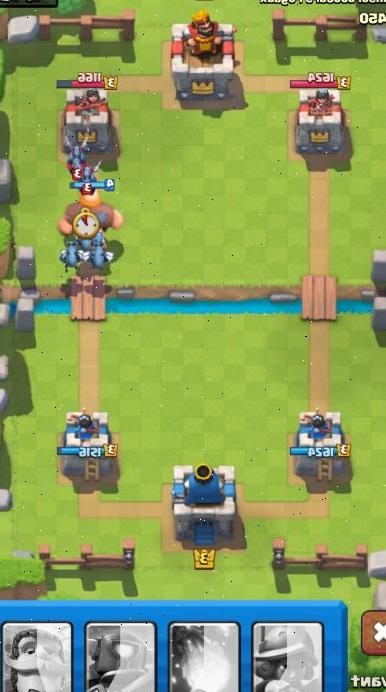player_giant: (59, 185, 125, 233)
player_minions: (84, 231, 114, 268), (57, 237, 85, 270)
